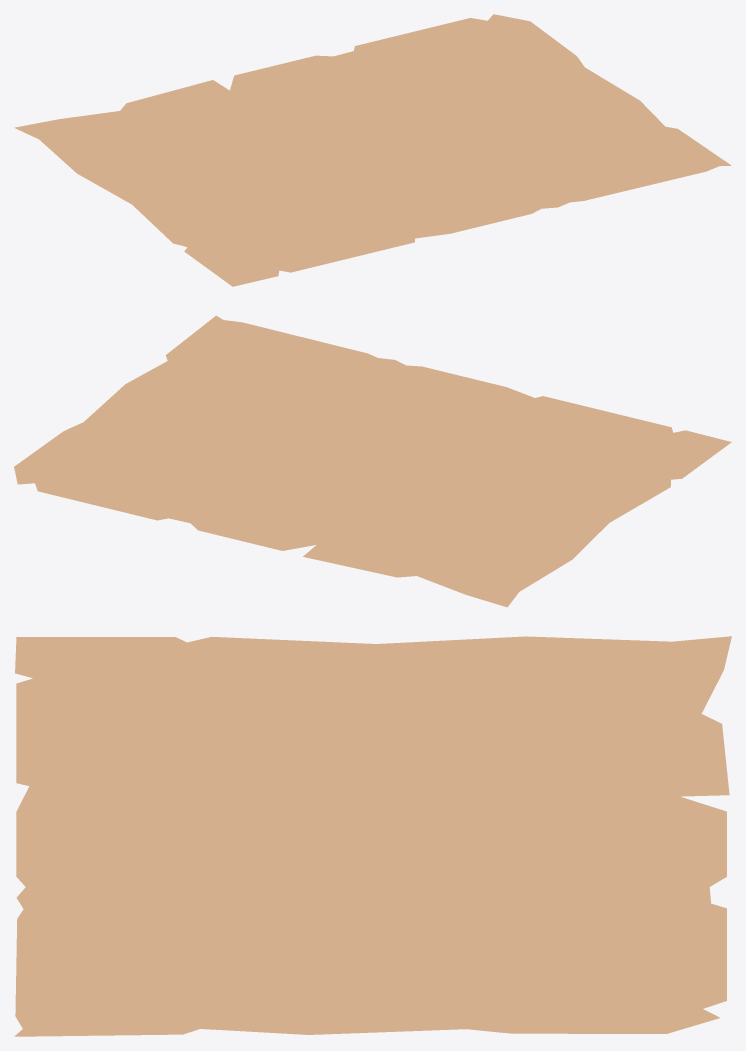
Rendered from parchment.fbx.
3 renders of one model, top to bottom at view 1: azimuth 30°, elevation 25°; view 2: azimuth 150°, elevation 25°; view 3: azimuth 270°, elevation 25°, orthographic. The views are drawn at different scales.
Visible parts, largest first — view 1: Plane; view 2: Plane; view 3: Plane.
Part boxes in pixels (x1=…): Plane: x1=14, y1=14, x2=731, y2=286; Plane: x1=14, y1=315, x2=731, y2=607; Plane: x1=14, y1=636, x2=731, y2=1036.
Size of the model in its own units: 202 by 0.0233 by 153.
